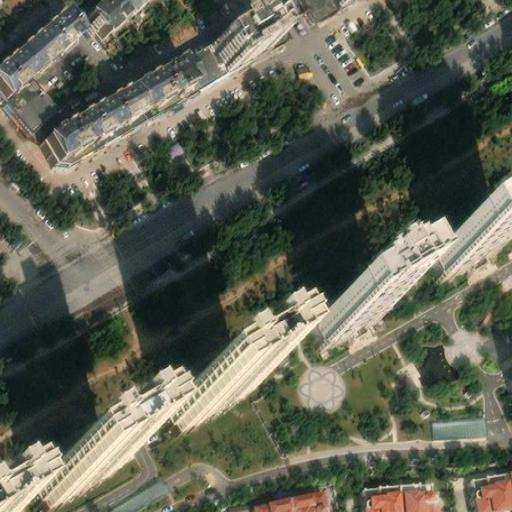building: (53, 40, 211, 156), (157, 348, 245, 417), (25, 433, 113, 501), (431, 207, 505, 264), (311, 277, 384, 334), (216, 11, 277, 63), (88, 0, 152, 37), (469, 471, 512, 512), (428, 415, 487, 442), (359, 477, 404, 512), (191, 32, 226, 75), (402, 474, 440, 512), (291, 482, 331, 512), (252, 489, 296, 512), (47, 122, 73, 160), (309, 0, 340, 15)
